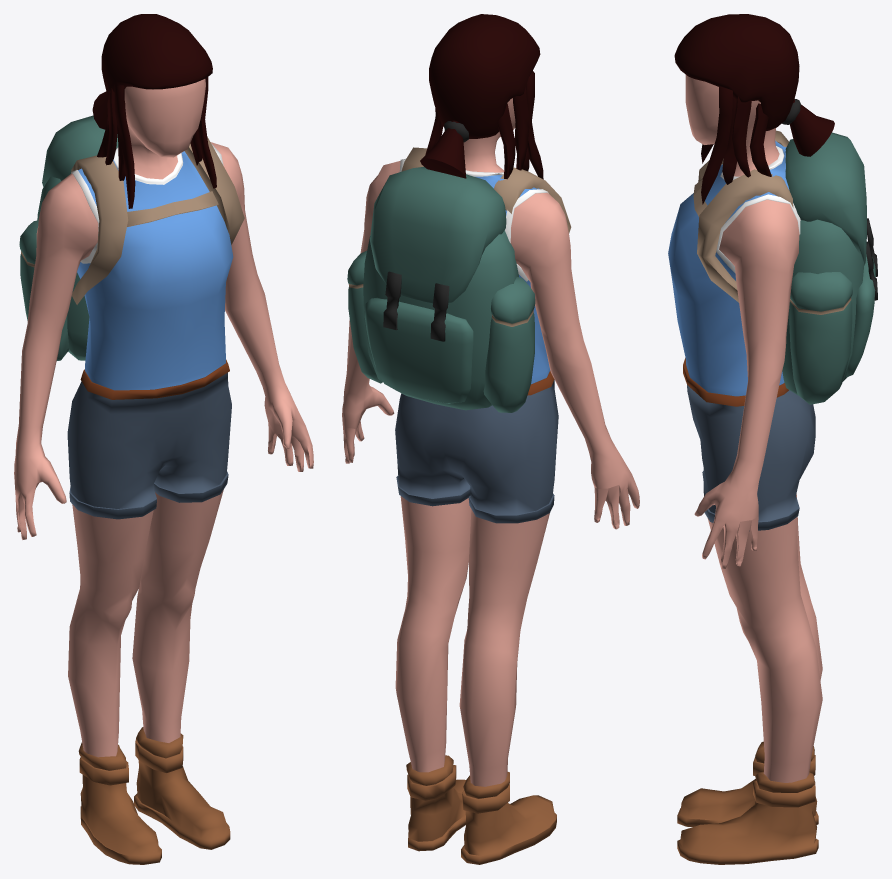
Rendered from hiker_woman.glb.
The picture shows the model from 3 angles, left to right: view 1: azimuth 30°, elevation 25°; view 2: azimuth 150°, elevation 25°; view 3: azimuth 270°, elevation 25°; orthographic projection.
Parts seen in each view (by area): view 1: hiker girl; view 2: hiker girl; view 3: hiker girl.
Part boxes in pixels (left/top/right/bottom): hiker girl: left=14, top=14, right=313, bottom=864; hiker girl: left=342, top=14, right=639, bottom=864; hiker girl: left=668, top=14, right=877, bottom=864.
Size of the model in its own units: 63.18 by 171 by 39.87.
